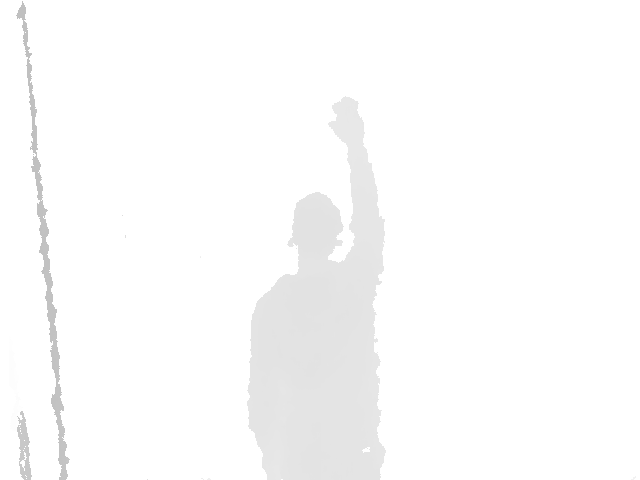hand: (327, 96, 366, 143)
head: (288, 192, 345, 269)
person: (245, 96, 388, 480)
